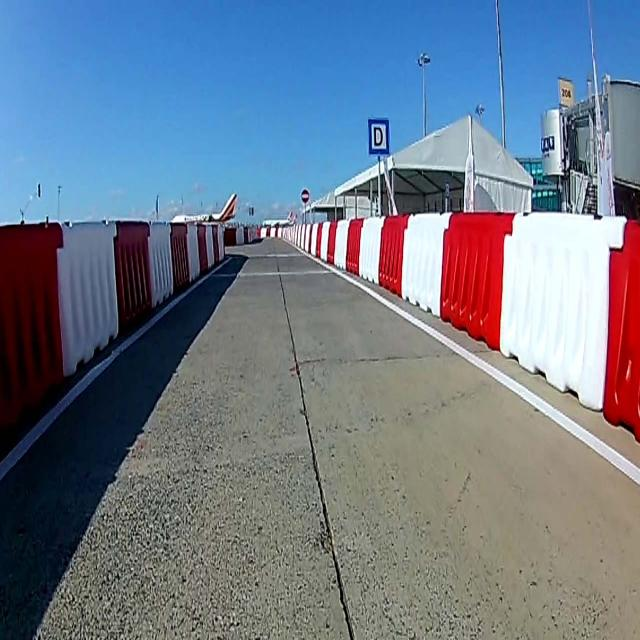durak: (368, 120, 388, 154)
girisyok: (300, 186, 310, 206)
